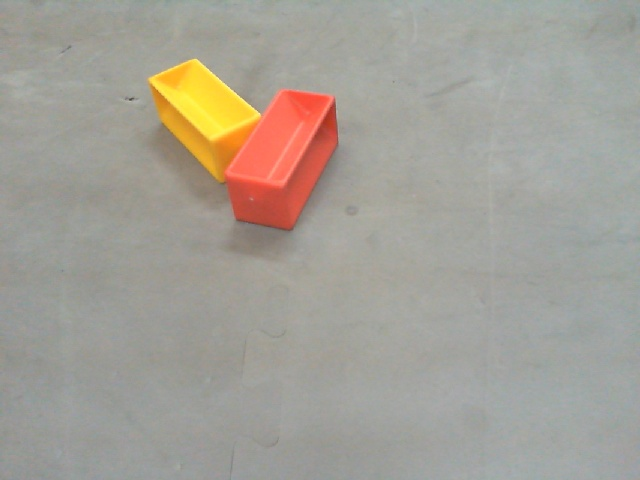RedSample: (225, 90, 341, 230)
YellowSample: (146, 56, 262, 182)
